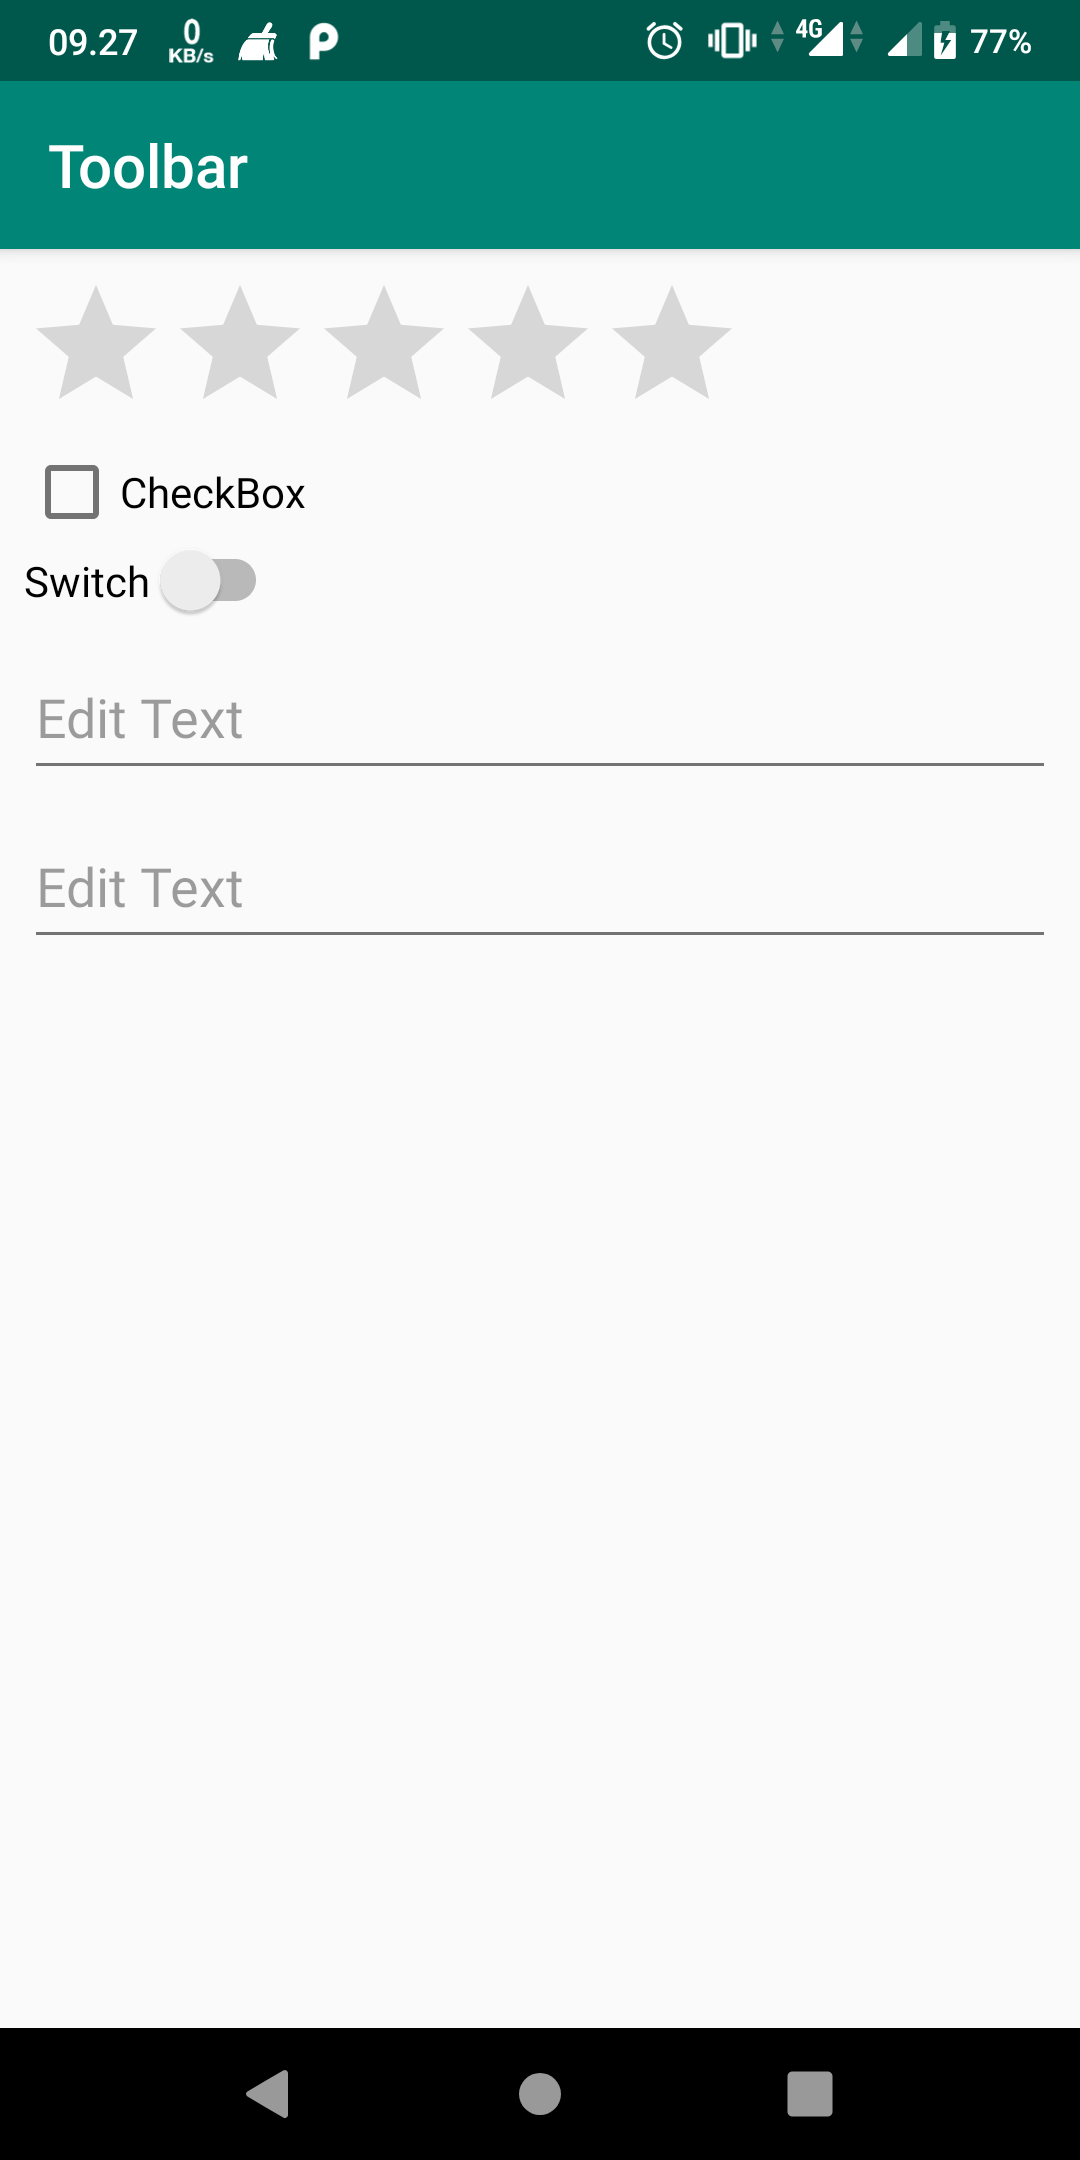checkBox: (34, 450, 322, 534)
editText: (22, 854, 1061, 964), (28, 683, 1054, 789)
ratingBar: (19, 280, 748, 419)
switch: (12, 554, 267, 614)
toolbar: (3, 77, 1080, 251)
